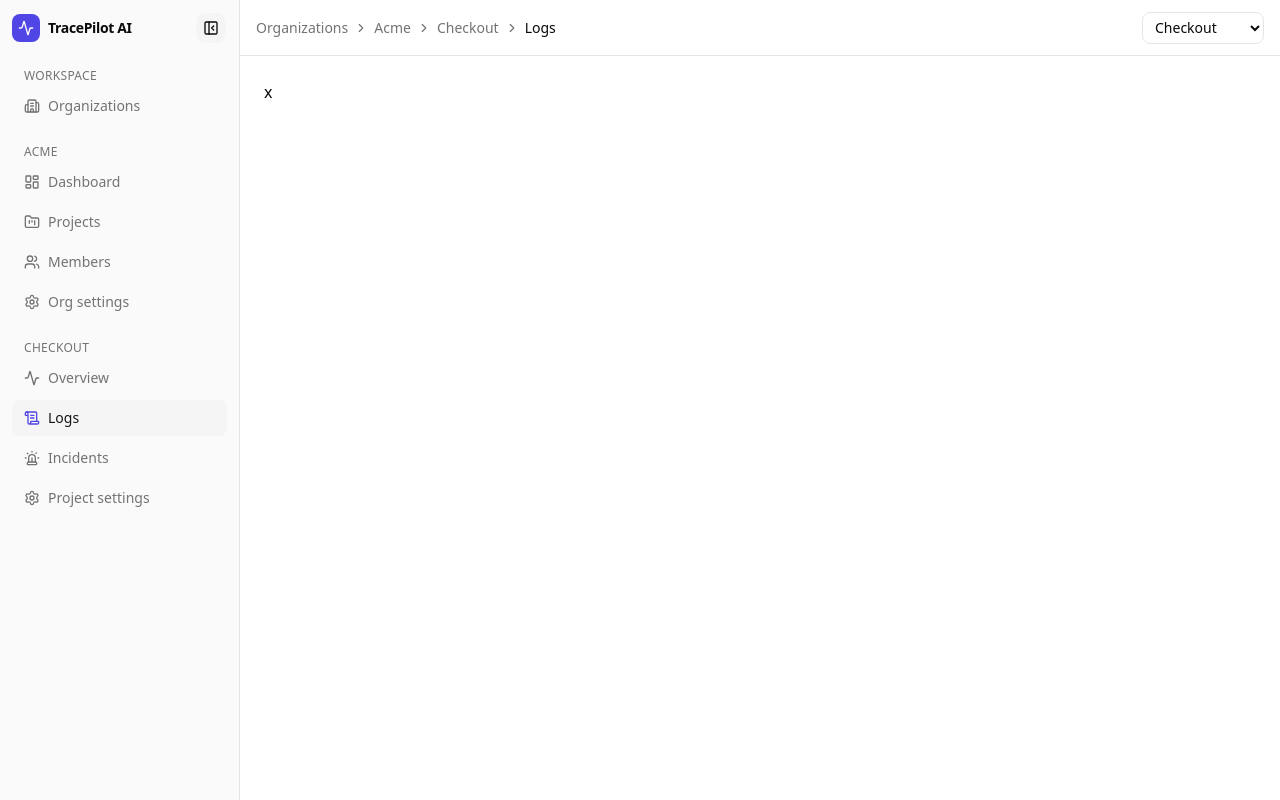
it: AppShell › collapses the sidebar to an icon rail and remembers it
This screenshot has width=1280, height=800.
Click the button named "Collapse sidebar": (211,28) [195,12,227,44]
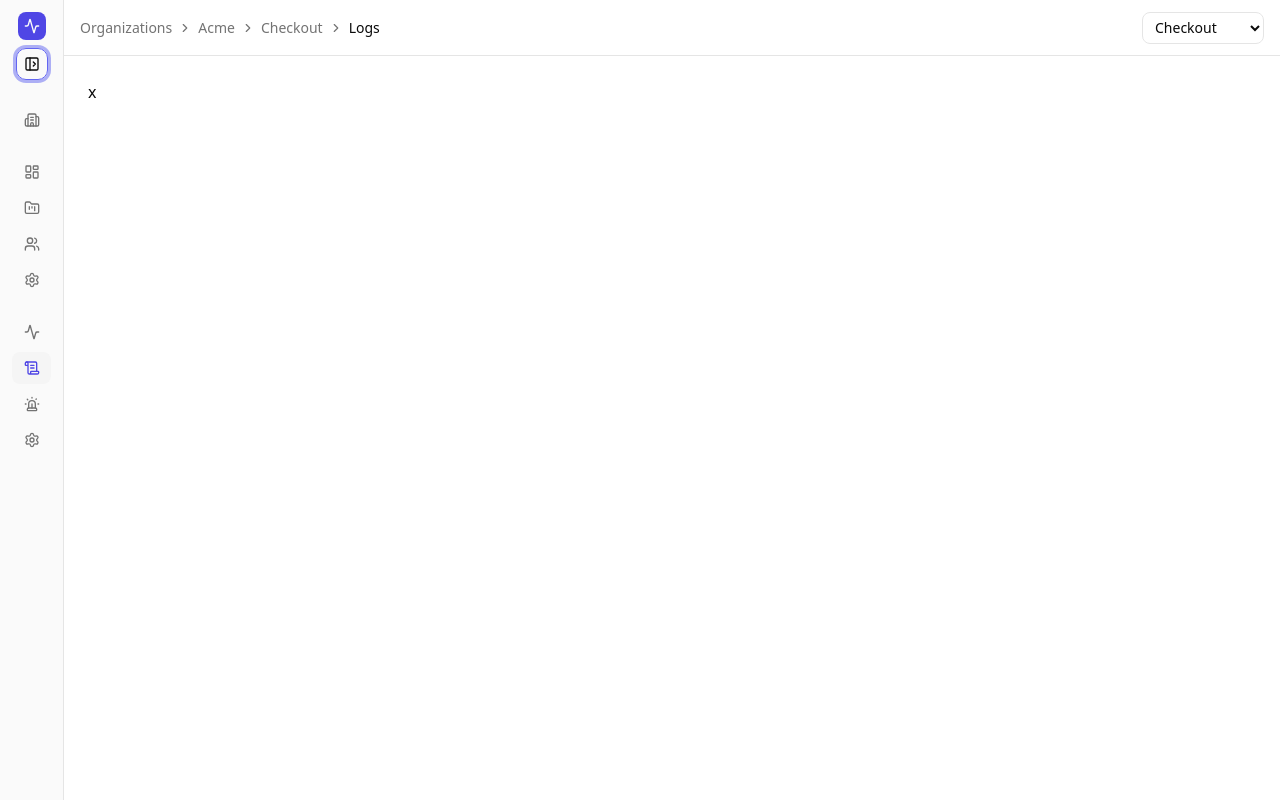
Expected: the link named "Logs" is shown, [12,352,51,384]
Expected: the button named "Expand sidebar" is collapsed, [16,48,48,80]
